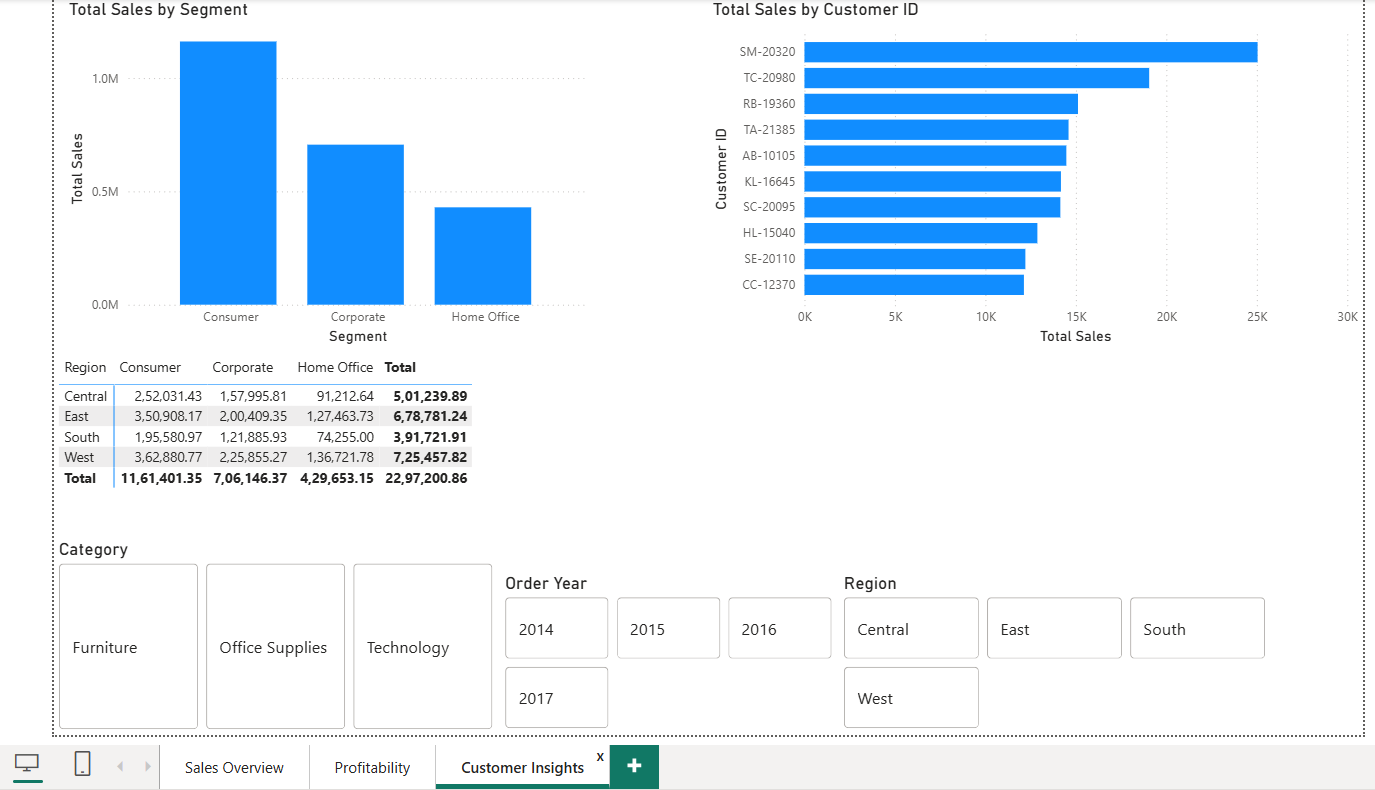

This screenshot's page, from the dashboard's own definition file:
{"tool":"powerbi","page":{"name":"Customer Insights","canvas":[1280,720],"ordinal":2},"visuals":[{"type":"clusteredColumnChart","fields":{"Y":["clean_superstore.Total Sales"],"Category":["clean_superstore.Segment"]},"box":[9.6,0,517.3,343.1],"z":0},{"type":"clusteredBarChart","fields":{"Category":["clean_superstore.Customer ID"],"Y":["clean_superstore.Total Sales"]},"box":[639.5,0,640.8,343.1],"z":1000},{"type":"pivotTable","fields":{"Rows":["clean_superstore.Region"],"Columns":["clean_superstore.Segment"],"Values":["clean_superstore.Total Sales"]},"box":[0,343.6,423.1,159],"z":2000},{"type":"advancedSlicerVisual","fields":{"Values":["clean_superstore.Order Year"]},"box":[436.6,561.5,331.8,158.5],"z":2001},{"type":"advancedSlicerVisual","fields":{"Values":["clean_superstore.Region"]},"box":[768.4,561.5,423.2,158.5],"z":2002},{"type":"advancedSlicerVisual","fields":{"Values":["clean_superstore.Category"]},"box":[0,528,436.6,192.1],"z":2003}]}

Visuals, with their boxes on the page's 1280x720 design canvas (x1, y1, x2, y2). These are canvas units, not pixel positions in the 1375x790 screenshot, which may show the page scaled, cropped or inside an application window:
clusteredColumnChart - clean_superstore.Total Sales x clean_superstore.Segment: x1=10 y1=0 x2=527 y2=343
clusteredBarChart - clean_superstore.Customer ID x clean_superstore.Total Sales: x1=640 y1=0 x2=1280 y2=343
pivotTable - clean_superstore.Region x clean_superstore.Segment: x1=0 y1=344 x2=423 y2=503
advancedSlicerVisual - clean_superstore.Order Year: x1=437 y1=562 x2=768 y2=720
advancedSlicerVisual - clean_superstore.Region: x1=768 y1=562 x2=1192 y2=720
advancedSlicerVisual - clean_superstore.Category: x1=0 y1=528 x2=437 y2=720
